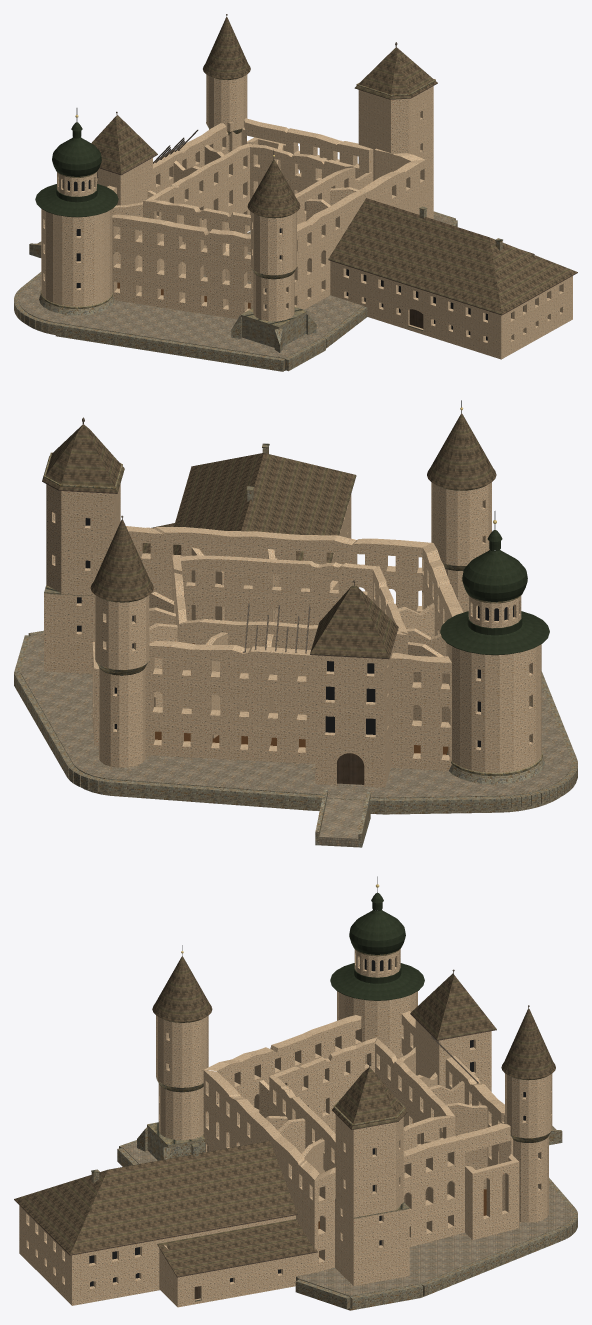
Rendered from zamek_ruina_lekki.glb.
3 views of the same model, one above another, from view 1: azimuth 30°, elevation 25°; view 2: azimuth 150°, elevation 25°; view 3: azimuth 270°, elevation 25° (orthographic). The views are drawn at different scales.
Visible parts, largest first — view 1: korpus_mur_zew__tynk_ruina, kmitowka_dach__gont, kmitowka_mur__tynk_ruina, korpus_mur_dz__tynk_ruina, taras_nawierzchnia__bruk, bona_mur__tynk_ruina, taras_mur__kamien_mur, wE_gora__tynk_ruina, wS_gora_mur__tynk_ruina, korpus_dzialowa__tynk_ruina, wE_dach__gont, ryzalit_dach__gont (+13 smaller); view 2: korpus_mur_zew__tynk_ruina, taras_nawierzchnia__bruk, korpus_mur_dz__tynk_ruina, kmitowka_dach__gont, bona_mur__tynk_ruina, taras_mur__kamien_mur, ryzalit_mur__tynk_ruina, wE_gora__tynk_ruina, korpus_dzialowa__tynk_ruina, wN_mur__tynk_ruina, wS_gora_mur__tynk_ruina, ryzalit_dach__gont (+15 smaller); view 3: korpus_mur_zew__tynk_ruina, kmitowka_dach__gont, korpus_mur_dz__tynk_ruina, kmitowka_mur__tynk_ruina, taras_nawierzchnia__bruk, wE_gora__tynk_ruina, przybudowka_dach__gont, wE_dol__tynk_ruina, przybudowka_mur__tynk_ruina, taras_mur__kamien_mur, korpus_dzialowa__tynk_ruina, kaplica_mur__tynk_ruina (+14 smaller).
Boxes of the visible parts, x1,y1,x2,y2 form: korpus_mur_zew__tynk_ruina: (107,118,426,319); kmitowka_dach__gont: (328,198,577,314); kmitowka_mur__tynk_ruina: (330,261,572,359); korpus_mur_dz__tynk_ruina: (143,143,355,283); taras_nawierzchnia__bruk: (18,213,452,358); bona_mur__tynk_ruina: (41,209,112,306); taras_mur__kamien_mur: (14,211,457,371); wE_gora__tynk_ruina: (358,86,433,172); wS_gora_mur__tynk_ruina: (251,212,296,275); korpus_dzialowa__tynk_ruina: (112,143,371,305); wE_dach__gont: (355,47,437,98); ryzalit_dach__gont: (91,115,157,174); korpus_mur_zew__tynk_ruina: (126,526,463,770); taras_nawierzchnia__bruk: (20,632,571,797); korpus_mur_dz__tynk_ruina: (172,555,407,714); kmitowka_dach__gont: (173,453,356,562); bona_mur__tynk_ruina: (448,644,541,774); taras_mur__kamien_mur: (14,630,577,811); ryzalit_mur__tynk_ruina: (315,646,393,787); wE_gora__tynk_ruina: (46,484,120,595); korpus_dzialowa__tynk_ruina: (149,547,448,745); wN_mur__tynk_ruina: (99,667,145,767); wS_gora_mur__tynk_ruina: (431,482,491,565); ryzalit_dach__gont: (310,585,398,658); korpus_mur_zew__tynk_ruina: (203,1011,513,1272); kmitowka_dach__gont: (14,1140,297,1254); korpus_mur_dz__tynk_ruina: (269,1037,455,1171); kmitowka_mur__tynk_ruina: (19,1205,295,1305); taras_nawierzchnia__bruk: (122,1142,572,1295); wE_gora__tynk_ruina: (335,1114,403,1218); przybudowka_dach__gont: (157,1219,317,1276); wE_dol__tynk_ruina: (335,1200,409,1285); przybudowka_mur__tynk_ruina: (159,1245,314,1307); taras_mur__kamien_mur: (117,1140,577,1309); korpus_dzialowa__tynk_ruina: (259,1045,487,1221); kaplica_mur__tynk_ruina: (465,1154,519,1239).
Size of the model in its own units: 82.35 by 38.51 by 83.43.
13 materials, 10 textured.
